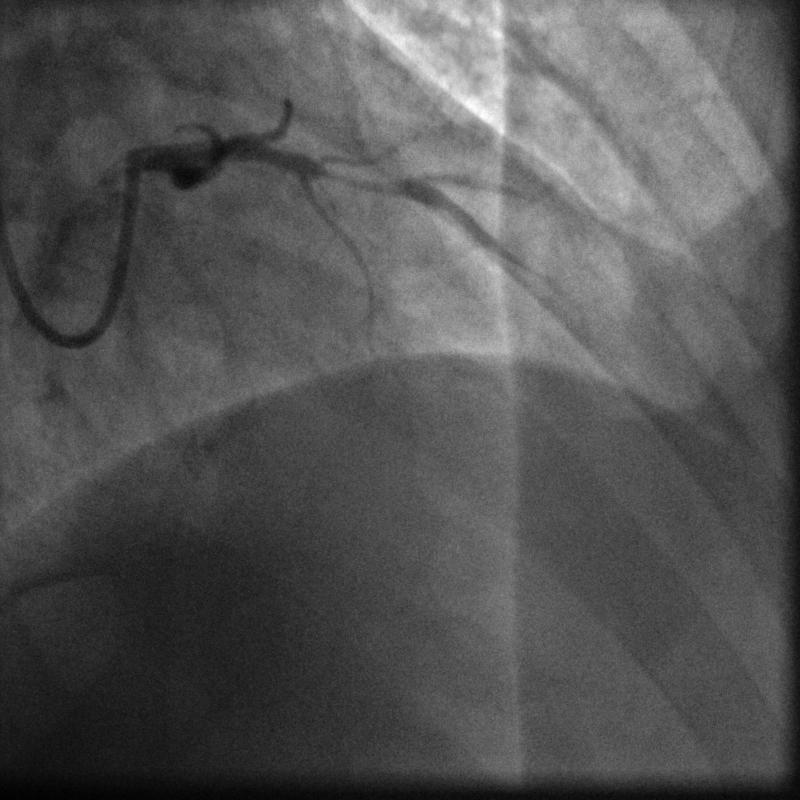Stenosis: (311, 164, 394, 194)
